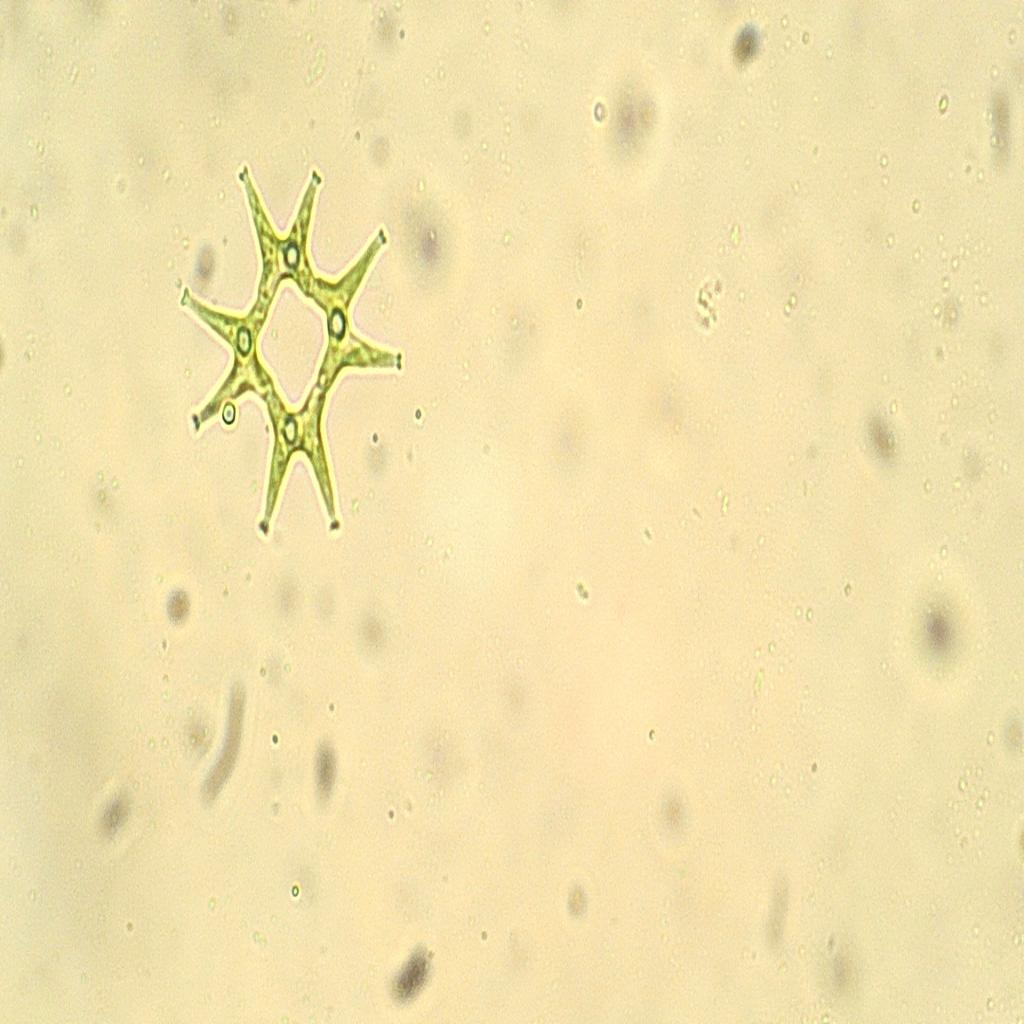Pediastrum_10: (164, 159, 408, 562)
